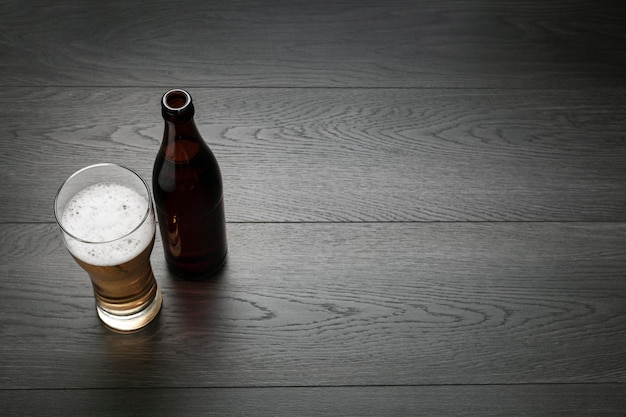alcohol: (53, 164, 166, 336), (151, 89, 228, 283)
